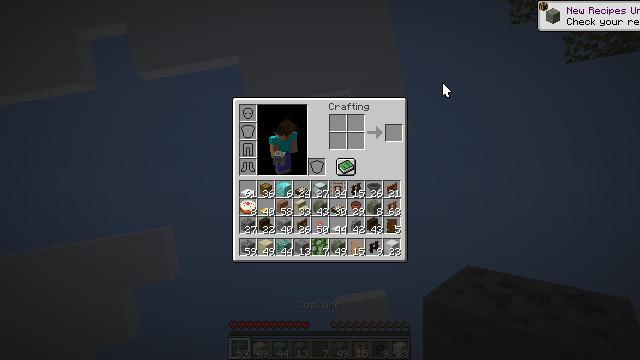cursor: (442, 82, 452, 98)
